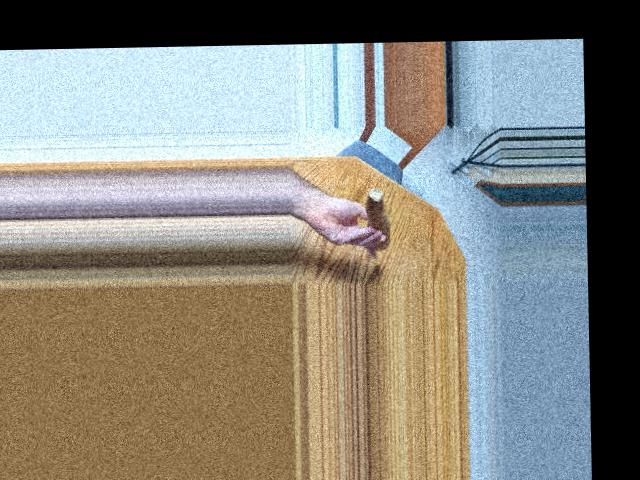sweet_potato: (358, 190, 393, 243)
